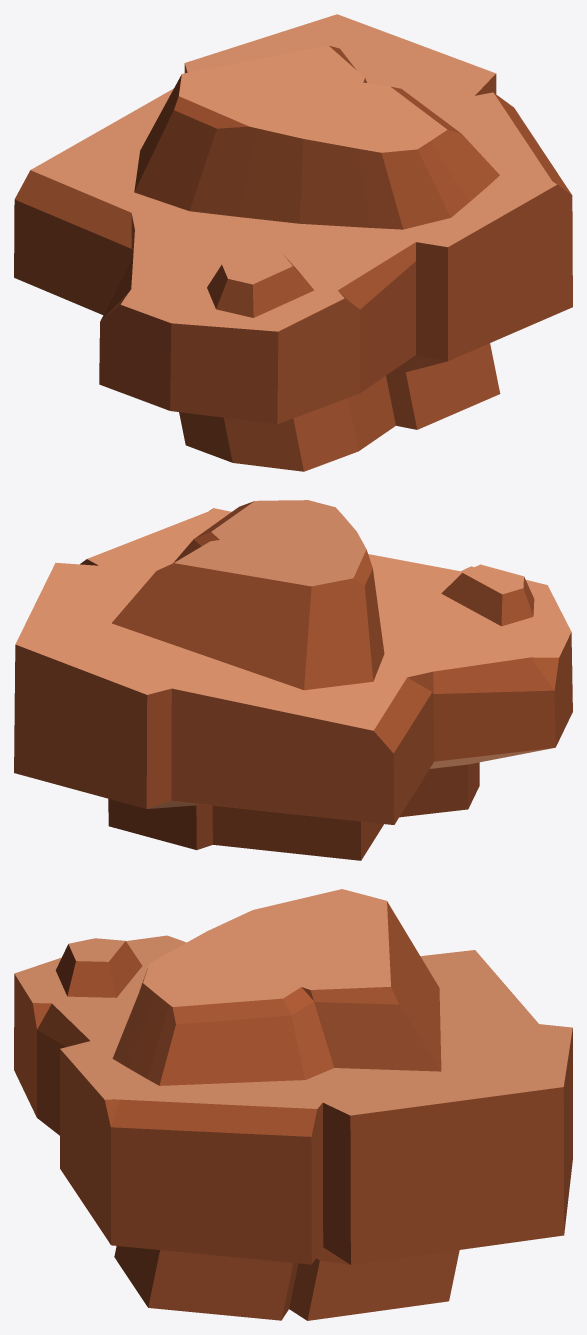
File: Fels_Breit.fbx
The picture shows the model from 3 angles, top to bottom: view 1: azimuth 30°, elevation 25°; view 2: azimuth 150°, elevation 25°; view 3: azimuth 270°, elevation 25°; orthographic projection. The views are drawn at different scales.
Visible parts, largest first — view 1: Plane.011; view 2: Plane.011; view 3: Plane.011.
Boxes of the visible parts, box(x1,y1,x2,y2) form: Plane.011: box(14, 14, 572, 471); Plane.011: box(14, 500, 572, 860); Plane.011: box(14, 889, 572, 1320).
Size of the model in its own units: 1381 by 1344 by 801.
